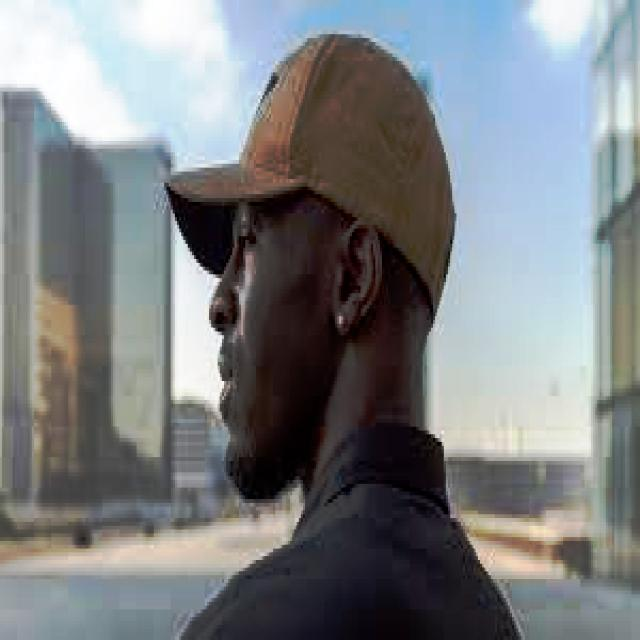TOPI: (160, 19, 457, 324)
